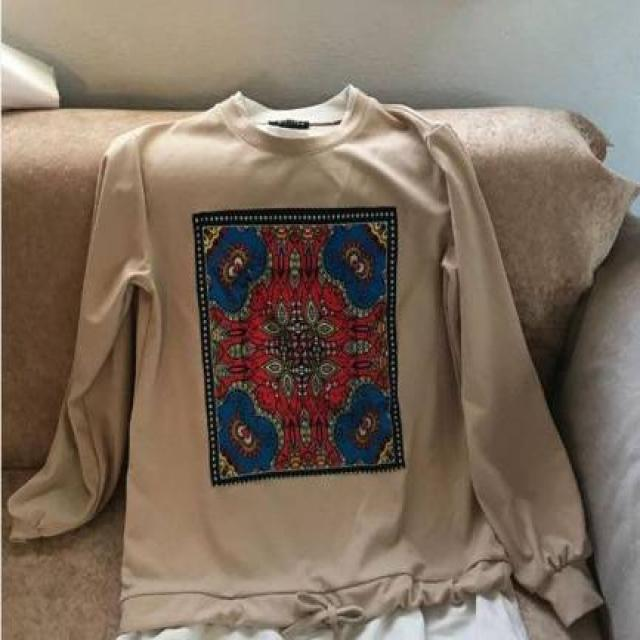Clothes -Biodegradable-: (4, 87, 606, 630)
